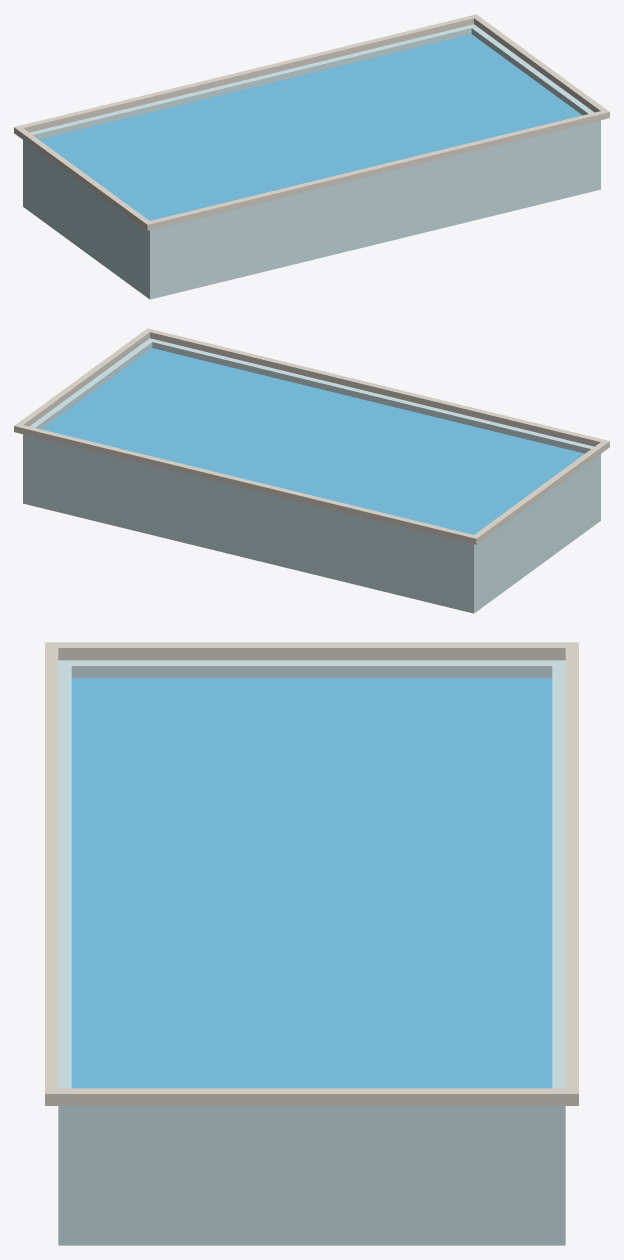
File: pool.glb
3 views of the same model, one above another, from view 1: azimuth 30°, elevation 25°; view 2: azimuth 150°, elevation 25°; view 3: azimuth 270°, elevation 25° (orthographic). The views are drawn at different scales.
Bounding box in the file's own units: 8 × 1.3 × 4.
